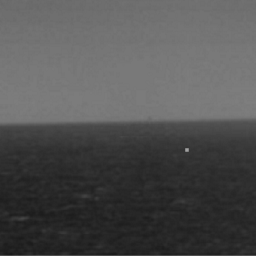Target: (182, 147, 190, 153)
